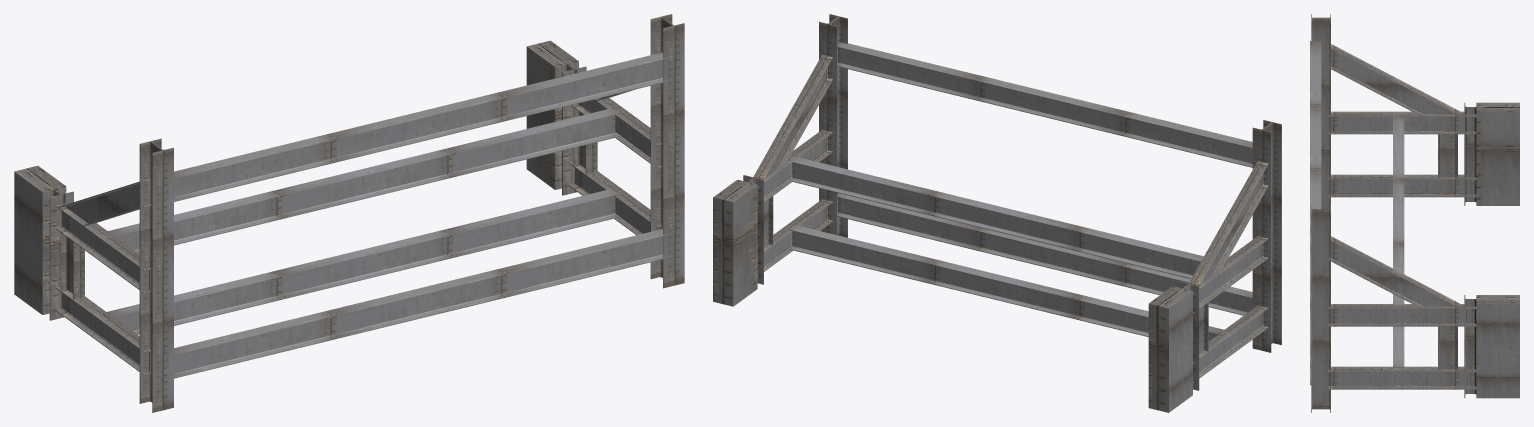
File: CT_Sign_Support_A_01.FBX
The picture shows the model from 3 angles, left to right: view 1: azimuth 30°, elevation 25°; view 2: azimuth 150°, elevation 25°; view 3: azimuth 270°, elevation 25°; orthographic projection. The views are drawn at different scales.
Parts seen in each view (by area): view 1: CT_Sign_Support_A_01; view 2: CT_Sign_Support_A_01; view 3: CT_Sign_Support_A_01.
Part boxes in pixels (x1,y1,x2,y2): CT_Sign_Support_A_01: (14, 14, 684, 412); CT_Sign_Support_A_01: (713, 14, 1281, 412); CT_Sign_Support_A_01: (1310, 14, 1519, 412).
Size of the model in its own units: 337 by 156 by 148.
